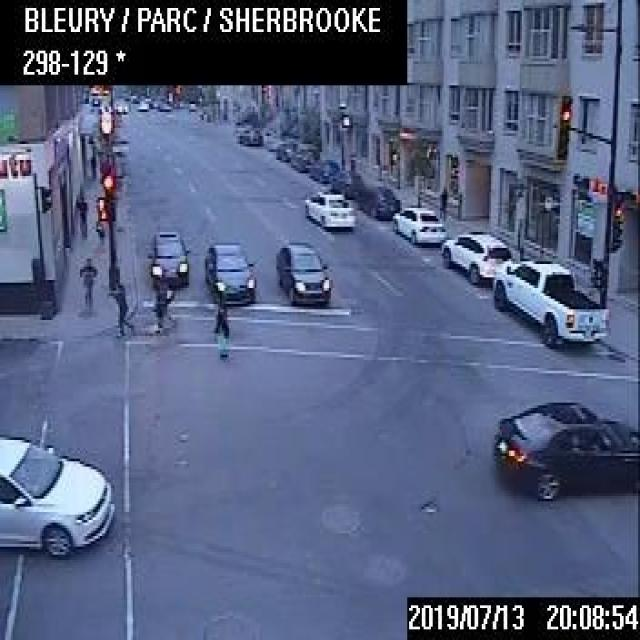pedestrian: (111, 277, 133, 336), (211, 288, 229, 354), (78, 254, 96, 314), (151, 286, 167, 334), (75, 186, 87, 237), (437, 179, 448, 216), (88, 145, 96, 178)
vehicle: (491, 400, 638, 501), (0, 430, 115, 558), (490, 258, 610, 346), (271, 234, 333, 306), (439, 229, 512, 284), (202, 237, 254, 304), (144, 229, 189, 288), (303, 185, 355, 226), (390, 205, 446, 242), (359, 184, 399, 218), (328, 168, 362, 197), (289, 143, 318, 171), (308, 157, 338, 181), (274, 138, 296, 160), (237, 125, 261, 144), (114, 99, 129, 112), (136, 98, 147, 109)
